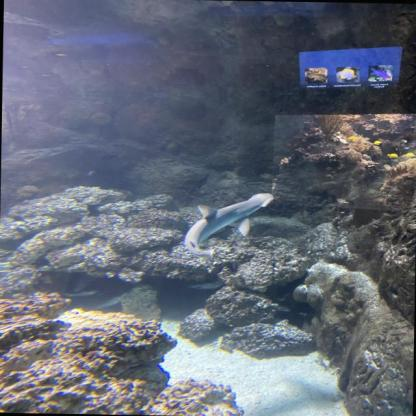shark: (185, 191, 273, 258)
